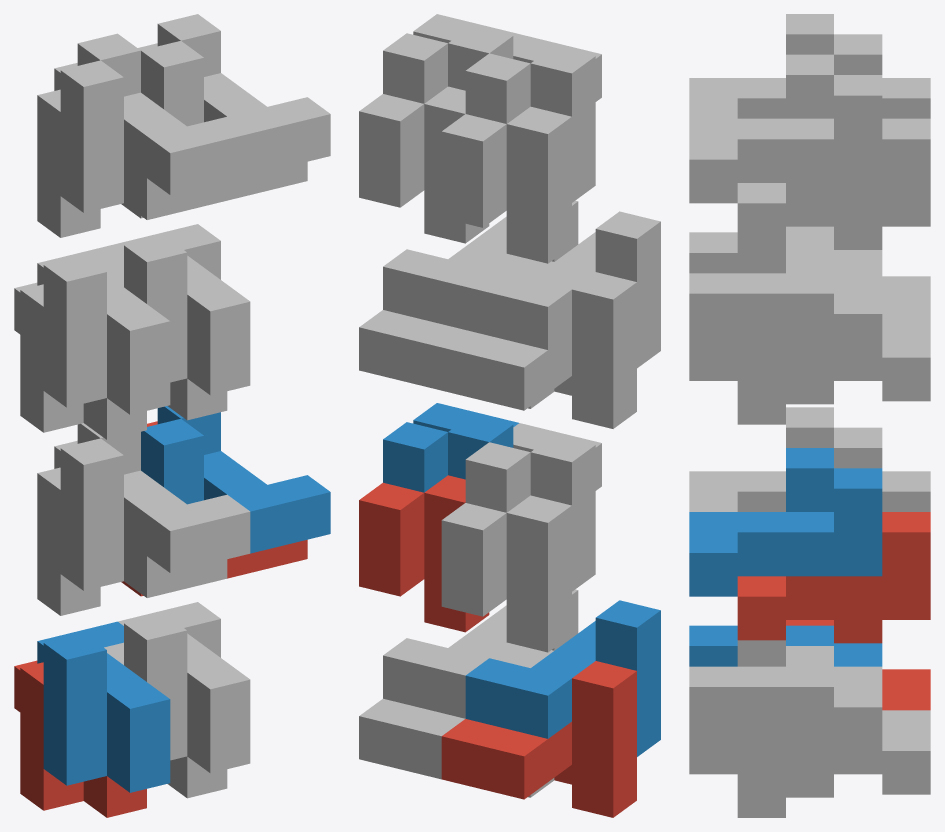
File: tiling.obj
The picture shows the model from 3 angles, left to right: view 1: azimuth 30°, elevation 25°; view 2: azimuth 150°, elevation 25°; view 3: azimuth 270°, elevation 25°; orthographic projection. The views are drawn at different scales.
Parts seen in each view (by area): view 1: copy_2_domain_4, copy_2_domain_2, copy_1_domain_2, copy_1_domain_4, copy_1_domain_8, copy_1_domain_6, copy_2_domain_8, copy_2_domain_6, copy_2_domain_3, copy_2_domain_1, copy_1_domain_3, copy_1_domain_1 (+4 smaller); view 2: copy_1_domain_1, copy_1_domain_3, copy_2_domain_1, copy_2_domain_3, copy_1_domain_2, copy_1_domain_4, copy_2_domain_2, copy_2_domain_4, copy_2_domain_5, copy_2_domain_7, copy_1_domain_8, copy_1_domain_6 (+4 smaller); view 3: copy_2_domain_8, copy_2_domain_6, copy_1_domain_6, copy_1_domain_8, copy_1_domain_7, copy_1_domain_5, copy_2_domain_5, copy_2_domain_7, copy_2_domain_2, copy_2_domain_4, copy_1_domain_2, copy_1_domain_4 (+4 smaller).
Part boxes in pixels (bbox=[...]): copy_2_domain_4: bbox=[60, 33, 250, 212]; copy_2_domain_2: bbox=[60, 423, 250, 590]; copy_1_domain_2: bbox=[37, 621, 170, 792]; copy_1_domain_4: bbox=[37, 243, 170, 414]; copy_1_domain_8: bbox=[118, 224, 250, 395]; copy_1_domain_6: bbox=[118, 602, 250, 773]; copy_2_domain_8: bbox=[141, 14, 330, 175]; copy_2_domain_6: bbox=[141, 406, 330, 553]; copy_2_domain_3: bbox=[37, 63, 227, 237]; copy_2_domain_1: bbox=[37, 440, 227, 615]; copy_1_domain_3: bbox=[14, 282, 146, 439]; copy_1_domain_1: bbox=[14, 660, 146, 817]; copy_1_domain_1: bbox=[441, 661, 636, 817]; copy_1_domain_3: bbox=[441, 272, 636, 428]; copy_2_domain_1: bbox=[441, 495, 571, 652]; copy_2_domain_3: bbox=[441, 106, 571, 263]; copy_1_domain_2: bbox=[465, 600, 660, 756]; copy_1_domain_4: bbox=[465, 211, 660, 368]; copy_2_domain_2: bbox=[465, 423, 601, 591]; copy_2_domain_4: bbox=[465, 34, 601, 202]; copy_2_domain_5: bbox=[359, 475, 489, 632]; copy_2_domain_7: bbox=[359, 86, 489, 243]; copy_1_domain_8: bbox=[383, 200, 578, 329]; copy_1_domain_6: bbox=[383, 589, 578, 718]; copy_2_domain_8: bbox=[689, 54, 882, 203]; copy_2_domain_6: bbox=[689, 448, 882, 596]; copy_1_domain_6: bbox=[689, 640, 882, 774]; copy_1_domain_8: bbox=[689, 247, 882, 380]; copy_1_domain_7: bbox=[737, 253, 930, 424]; copy_1_domain_5: bbox=[737, 646, 930, 817]; copy_2_domain_5: bbox=[737, 512, 930, 643]; copy_2_domain_7: bbox=[737, 118, 930, 249]; copy_2_domain_2: bbox=[689, 407, 882, 511]; copy_2_domain_4: bbox=[689, 14, 882, 118]; copy_1_domain_2: bbox=[689, 625, 882, 666]; copy_1_domain_4: bbox=[689, 232, 882, 273].
Size of the model in its own units: 6 by 17 by 5.
